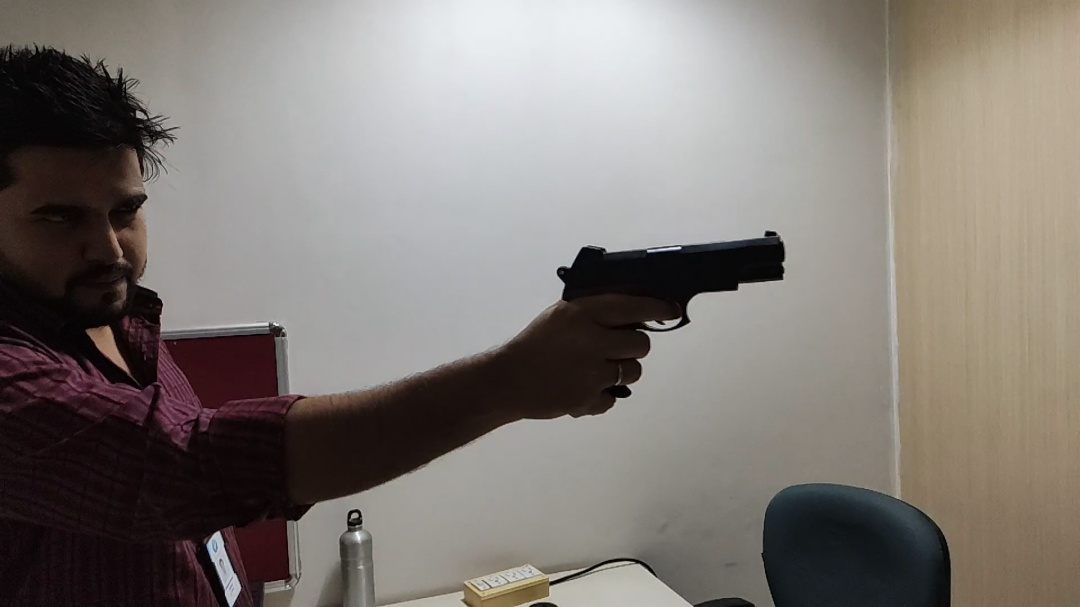gun: (556, 227, 790, 401)
